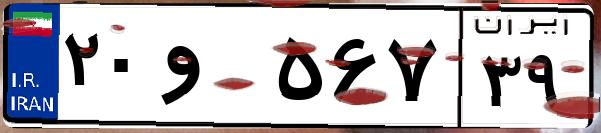0: (110, 28, 158, 98)
2: (57, 26, 110, 100)
3: (475, 38, 525, 113)
5: (270, 28, 330, 110)
6: (330, 28, 385, 110)
7: (385, 28, 445, 110)
9: (525, 38, 570, 115)
و: (158, 20, 270, 120)
